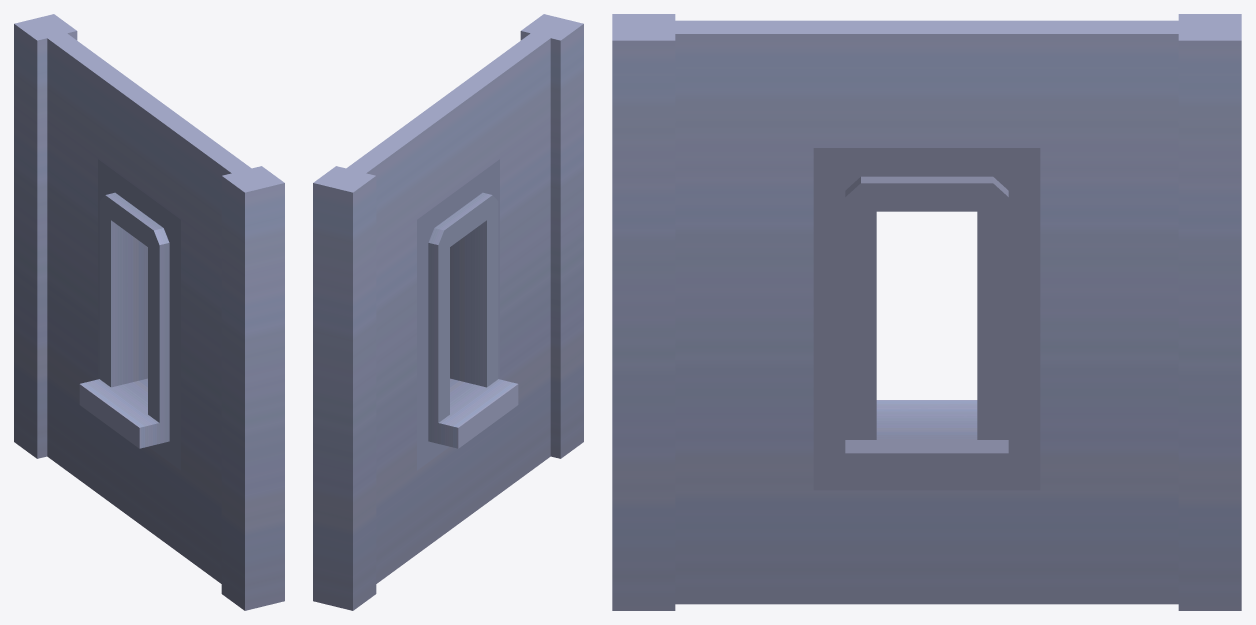
The model's file is wall-wood-window-small.glb.
3 renders of one model, left to right at view 1: azimuth 30°, elevation 25°; view 2: azimuth 150°, elevation 25°; view 3: azimuth 270°, elevation 25°, orthographic. The views are drawn at different scales.
Parts seen in each view (by area): view 1: wall-wood-window-small; view 2: wall-wood-window-small; view 3: wall-wood-window-small.
Boxes of the visible parts, <box> form: wall-wood-window-small: <box>14,14,284,610</box>; wall-wood-window-small: <box>313,14,583,610</box>; wall-wood-window-small: <box>612,14,1241,610</box>.
Bounding box in the file's own units: 0.2 × 1 × 1.
1 material, 1 textured.
